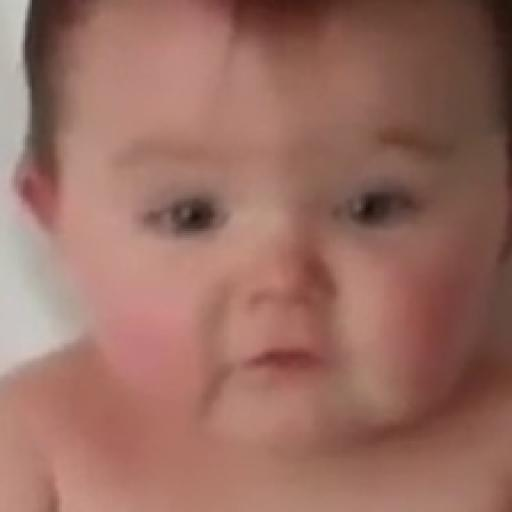Autism: (43, 20, 512, 492)
